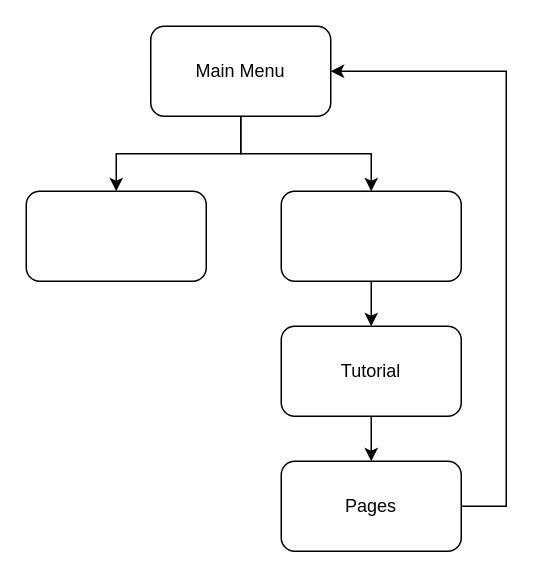
The diagram is 545 pixels wide and 578 high, and some of its shapes have lost their labels. Each missing label, with the box of its shape:
Character Select: (25, 190, 206, 281)
How To Play: (280, 190, 461, 281)
